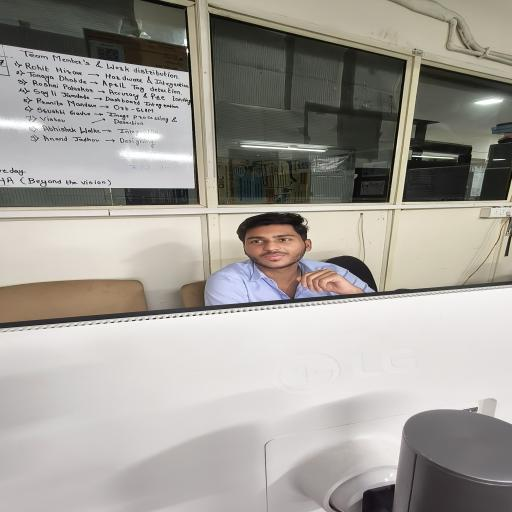survivor: (203, 212, 376, 306)
